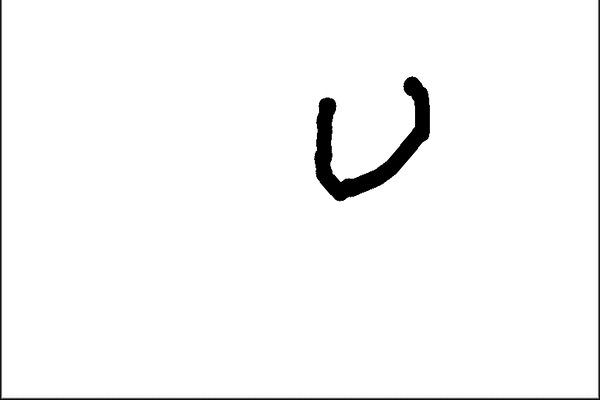U: (296, 67, 441, 198)
